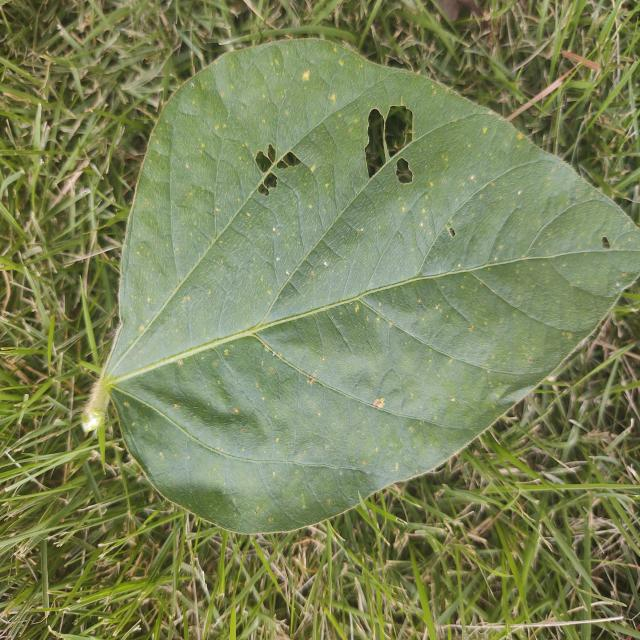Soybean: (84, 35, 640, 537)
downey_mildew: (309, 126, 421, 297), (315, 299, 445, 444), (405, 116, 519, 263), (183, 170, 280, 335), (121, 108, 185, 329), (460, 160, 578, 271), (110, 319, 270, 393), (169, 104, 229, 276), (471, 259, 614, 331), (447, 241, 640, 287), (270, 47, 342, 164), (258, 334, 354, 408), (347, 265, 416, 354), (265, 240, 341, 319), (283, 362, 369, 430), (168, 436, 355, 467), (435, 269, 515, 340), (284, 125, 337, 225), (212, 141, 258, 248), (334, 271, 445, 306), (420, 218, 470, 272)
